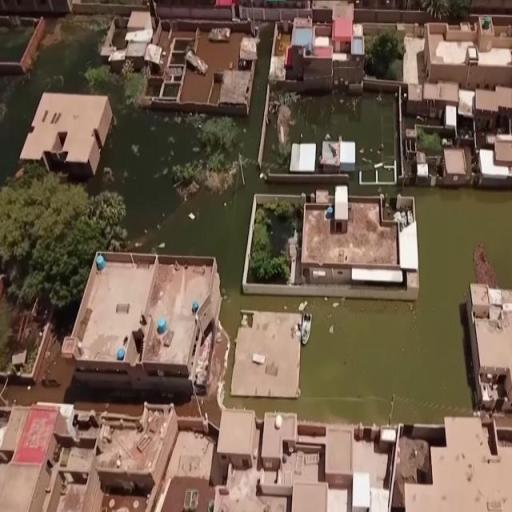flood: (0, 15, 512, 424), (297, 97, 396, 162)
house: (67, 242, 227, 412), (402, 414, 512, 512), (18, 87, 120, 183), (298, 187, 401, 281), (92, 398, 179, 488), (228, 306, 304, 400), (465, 280, 512, 410), (286, 21, 367, 79), (397, 429, 430, 512), (425, 30, 478, 80), (154, 472, 218, 511), (220, 408, 257, 475), (260, 408, 298, 470), (467, 85, 512, 133), (0, 0, 68, 26), (477, 140, 512, 188), (441, 145, 475, 188), (467, 1, 512, 18)
